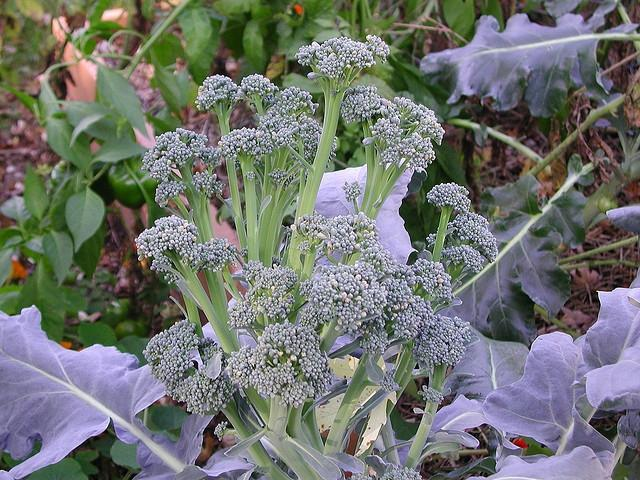broccoli: (272, 34, 390, 220), (224, 319, 342, 480), (340, 85, 446, 220), (194, 74, 248, 264), (142, 319, 236, 417), (298, 262, 388, 356), (226, 260, 298, 344), (196, 237, 242, 352), (426, 182, 471, 263), (316, 213, 378, 264), (446, 212, 498, 264), (409, 258, 454, 302), (237, 73, 279, 117), (274, 86, 319, 121), (379, 277, 415, 312)
